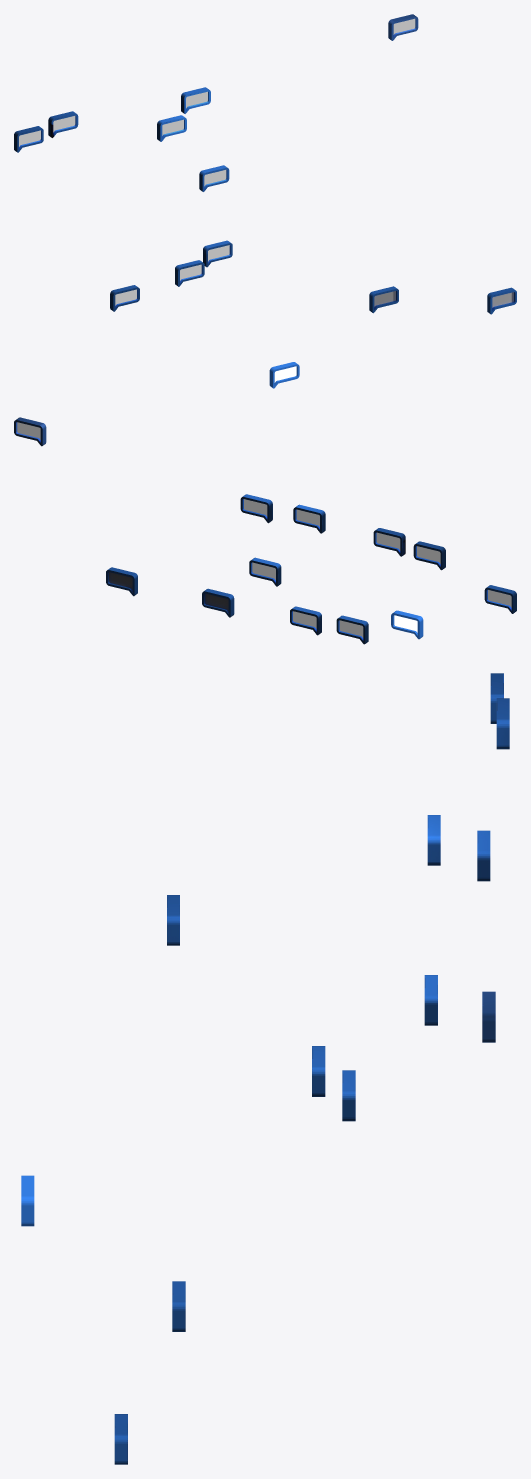
Rendered from pop_up_photography_right.glb.
The picture shows the model from 3 angles, top to bottom: view 1: azimuth 30°, elevation 25°; view 2: azimuth 150°, elevation 25°; view 3: azimuth 270°, elevation 25°; orthographic projection. The views are drawn at different scales.
Parts seen in each view (by area): view 1: pop_up_running, pop_up_development, pop_up_photography_left, pop_up_languages, pop_up_social_networks, pop_up_share_knowledge, pop_up_photography_right, pop_up_art, pop_up_games, pop_up_travel, pop_up_stereoscopy, pop_up_contact_me; view 2: pop_up_share_knowledge, pop_up_travel, pop_up_running, pop_up_social_networks, pop_up_languages, pop_up_contact_me, pop_up_development, pop_up_games, pop_up_photography_left, pop_up_art, pop_up_photography_right, pop_up_stereoscopy; view 3: no part large enough to name.
Boxes of the visible parts, <box> form: pop_up_running: <box>269,362,299,388</box>; pop_up_development: <box>199,165,229,191</box>; pop_up_photography_left: <box>48,111,78,137</box>; pop_up_languages: <box>388,14,418,40</box>; pop_up_social_networks: <box>157,115,186,141</box>; pop_up_share_knowledge: <box>369,286,398,313</box>; pop_up_photography_right: <box>487,287,516,314</box>; pop_up_art: <box>14,126,43,152</box>; pop_up_games: <box>110,285,139,311</box>; pop_up_travel: <box>181,87,210,113</box>; pop_up_stereoscopy: <box>203,240,232,267</box>; pop_up_contact_me: <box>175,260,204,286</box>; pop_up_share_knowledge: <box>202,588,234,617</box>; pop_up_travel: <box>240,494,272,523</box>; pop_up_running: <box>391,610,423,639</box>; pop_up_social_networks: <box>293,504,325,533</box>; pop_up_languages: <box>14,417,46,446</box>; pop_up_contact_me: <box>336,615,368,644</box>; pop_up_development: <box>249,557,281,586</box>; pop_up_games: <box>484,585,516,613</box>; pop_up_photography_left: <box>373,528,405,556</box>; pop_up_art: <box>413,541,445,570</box>; pop_up_photography_right: <box>106,567,137,596</box>; pop_up_stereoscopy: <box>290,606,321,635</box>.
Size of the model in its own units: 34.1 by 18.2 by 17.78.
Materials: 12 (12 with a texture image).
